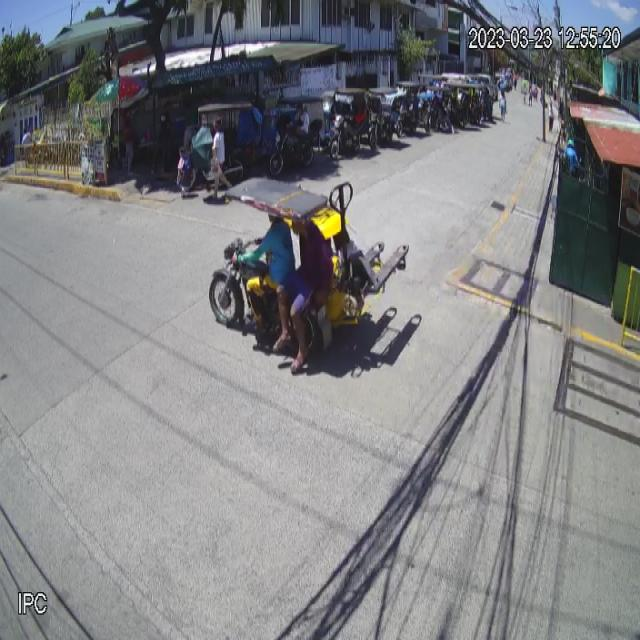Tricycle: (208, 173, 384, 357)
